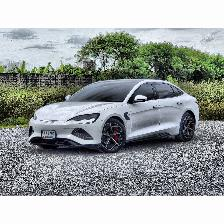EV: (30, 80, 200, 153)
